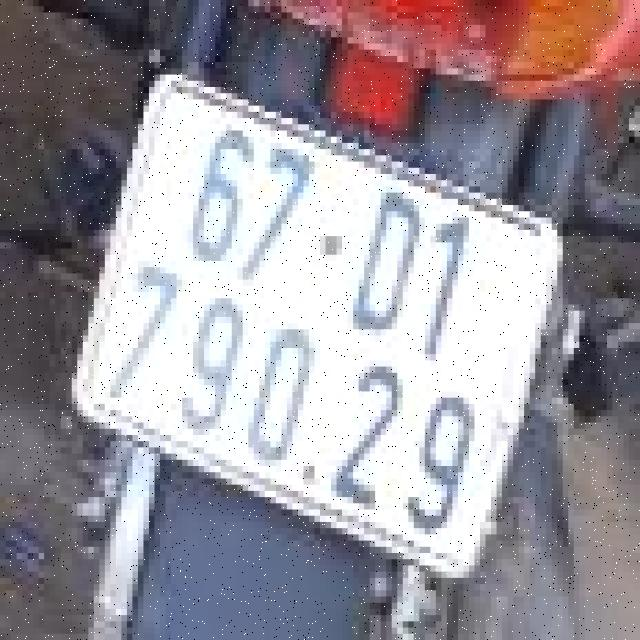0: (234, 313, 331, 475)
1: (403, 197, 490, 371)
2: (322, 351, 421, 523)
6: (169, 113, 270, 278)
7: (93, 243, 195, 420), (232, 130, 328, 294)
9: (391, 376, 489, 550), (171, 283, 260, 440)
D: (339, 175, 438, 347)
